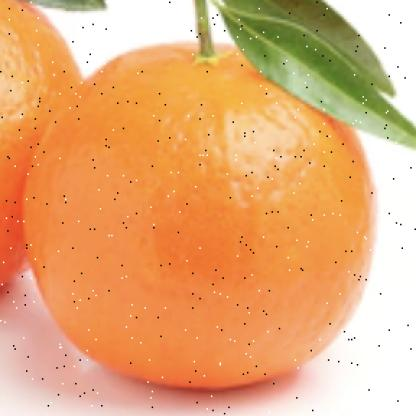fresh: (19, 35, 378, 393)
